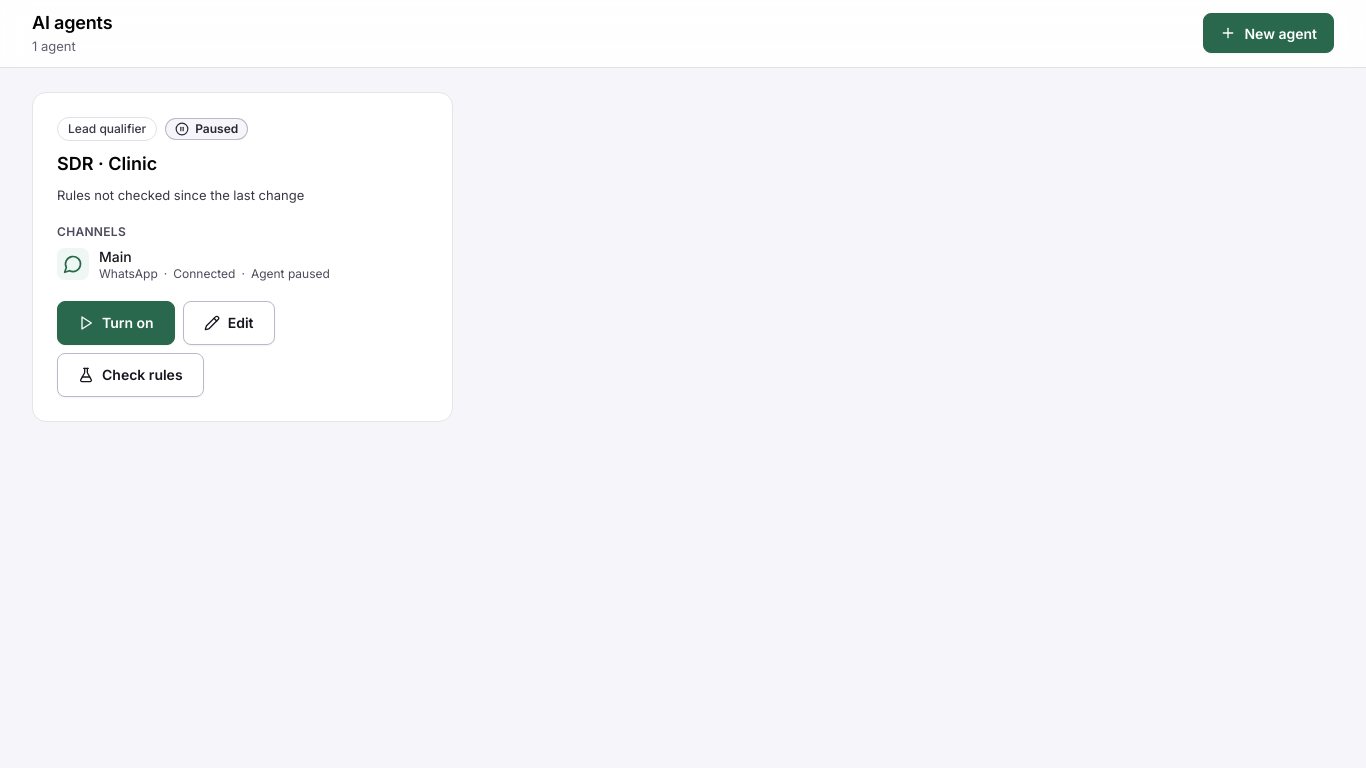
Test: AgentsView › keeps the dialog open with a plain message and the previous state when going live fails
Click the button "Turn on" at (116, 323), box x1=57 y1=301 x2=175 y2=345
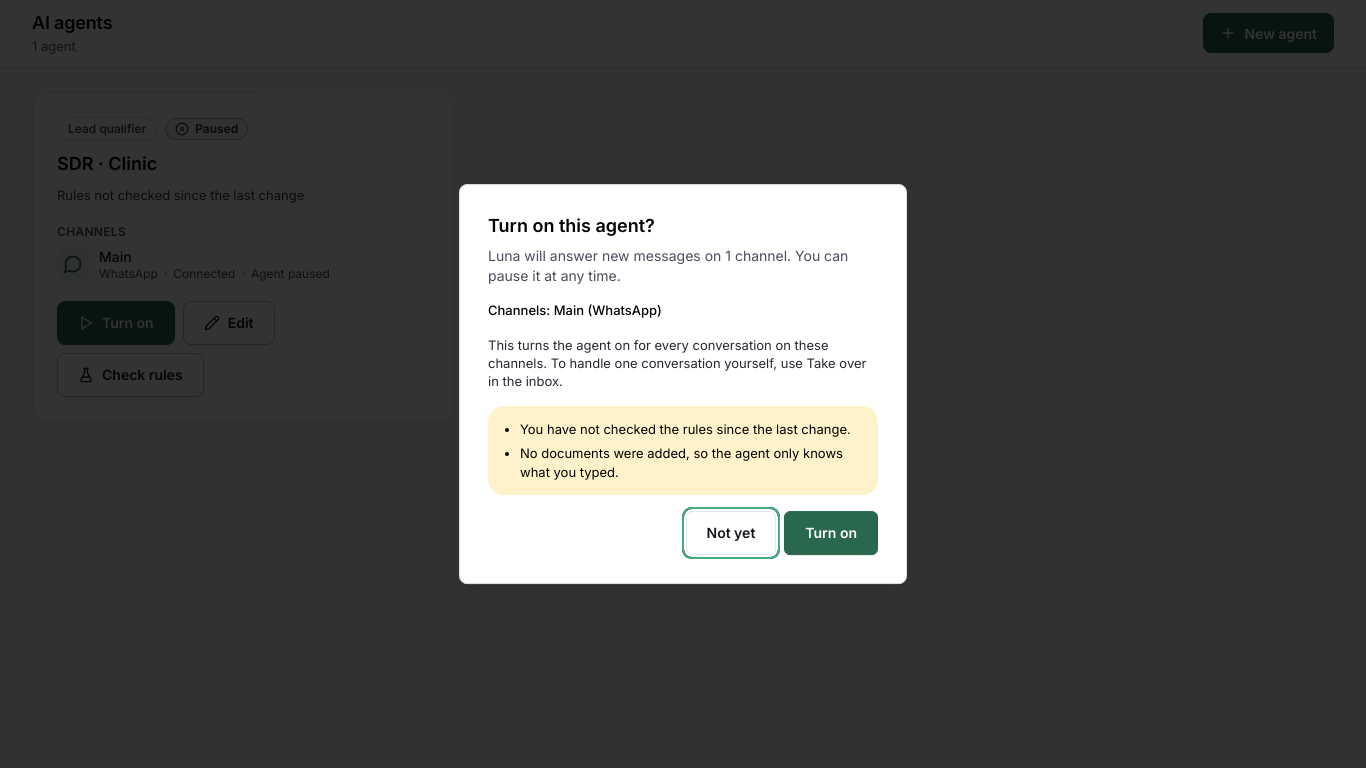
Expected: the text "Luna will answer new messages on 1 channel. You can pause it at any time." is shown, x1=488 y1=246 x2=878 y2=286
Click the button "Turn on" at (831, 533), box x1=784 y1=511 x2=878 y2=555
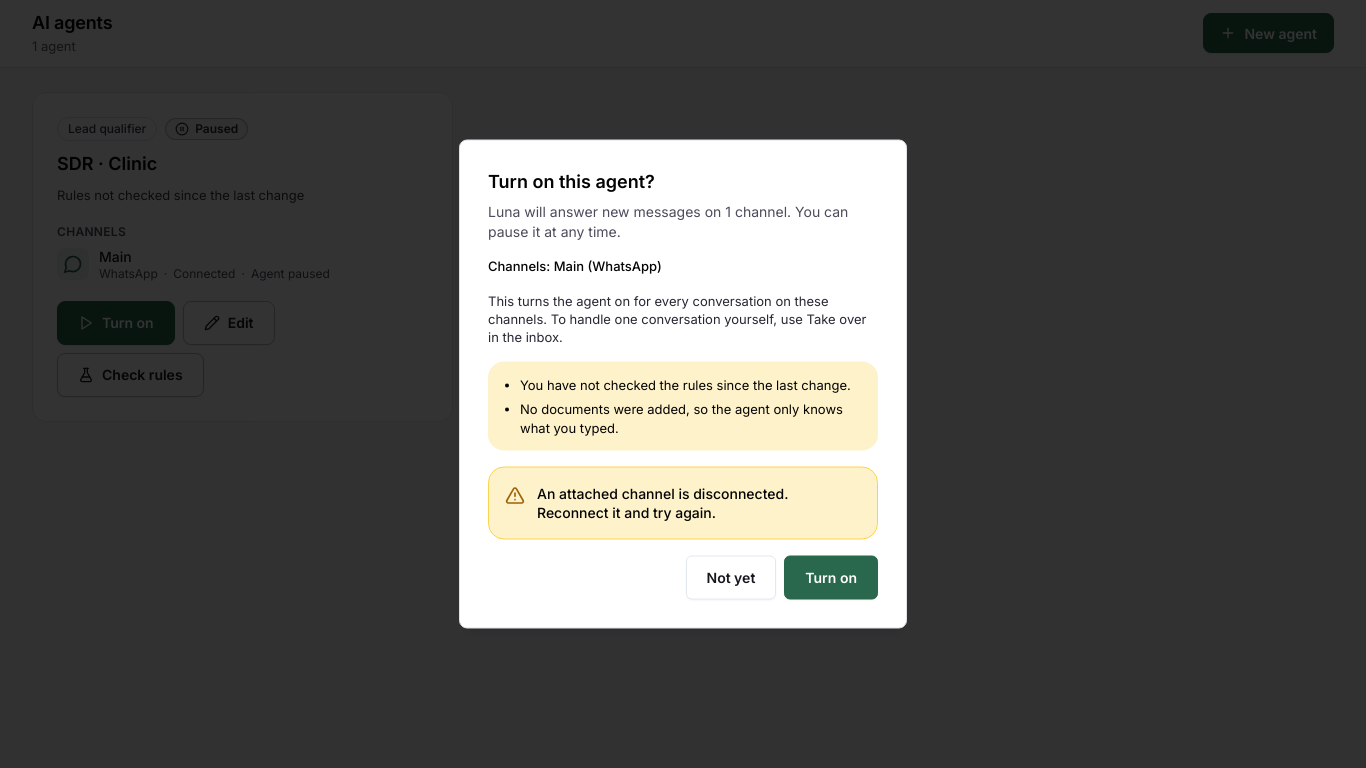
Expected: the text "Paused" is shown, x1=165 y1=118 x2=248 y2=140
Expected: the text "An attached channel is disconnected. Reconnect it and try again." is shown, x1=537 y1=484 x2=788 y2=521
